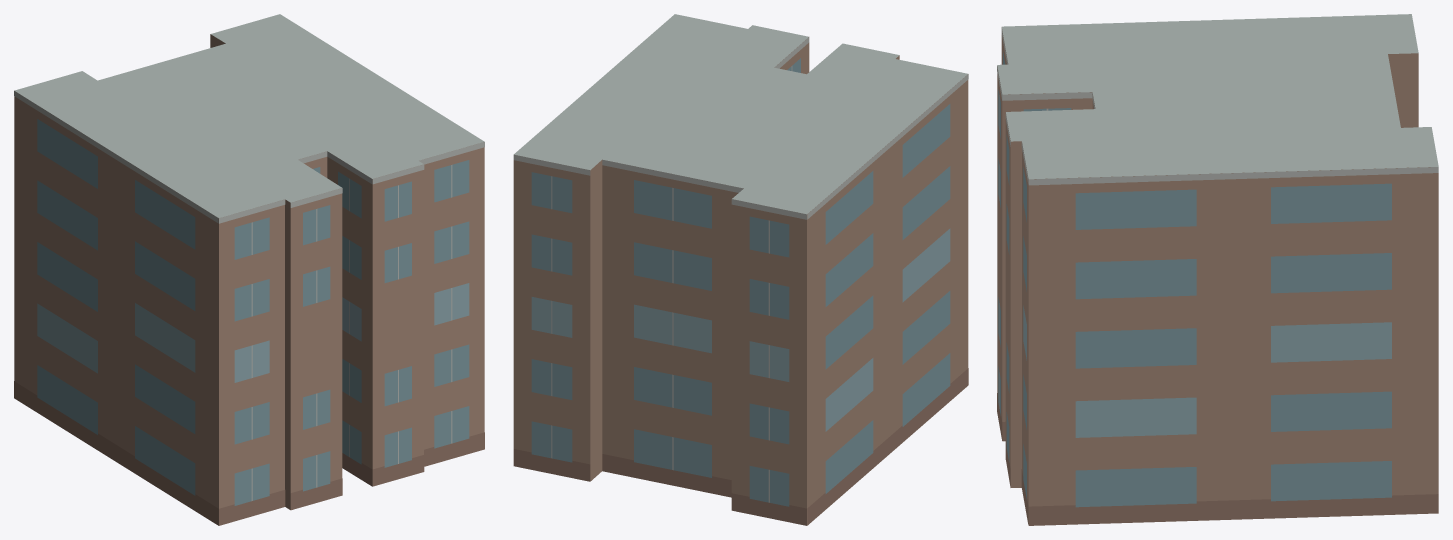
File: survey-upis-32912827.glb
3 renders of one model, left to right at view 1: azimuth 30°, elevation 25°; view 2: azimuth 150°, elevation 25°; view 3: azimuth 270°, elevation 25°, orthographic. The views are drawn at different scales.
Parts seen in each view (by area): view 1: survey-upis-32912827.tmp; view 2: survey-upis-32912827.tmp; view 3: survey-upis-32912827.tmp.
Boxes of the visible parts, <box> form: survey-upis-32912827.tmp: <box>14,14,484,525</box>; survey-upis-32912827.tmp: <box>513,14,968,525</box>; survey-upis-32912827.tmp: <box>997,14,1438,525</box>.
Bounding box in the file's own units: 14.02 × 13.7 × 15.83.
